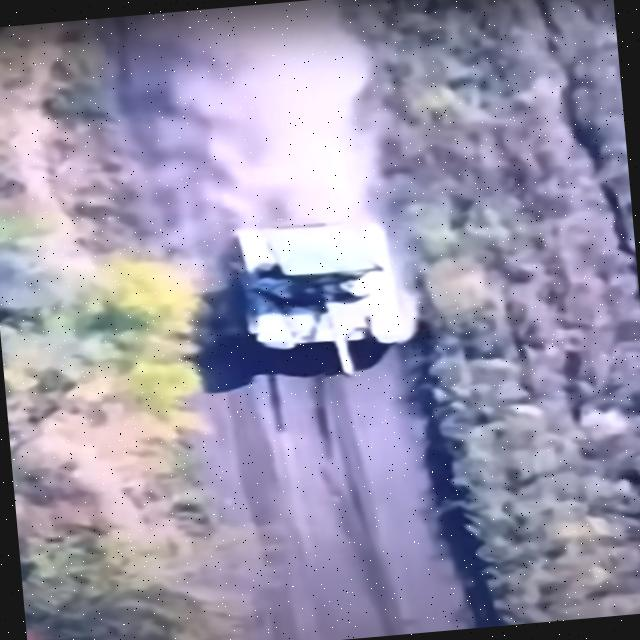MBT: (213, 210, 428, 391)
